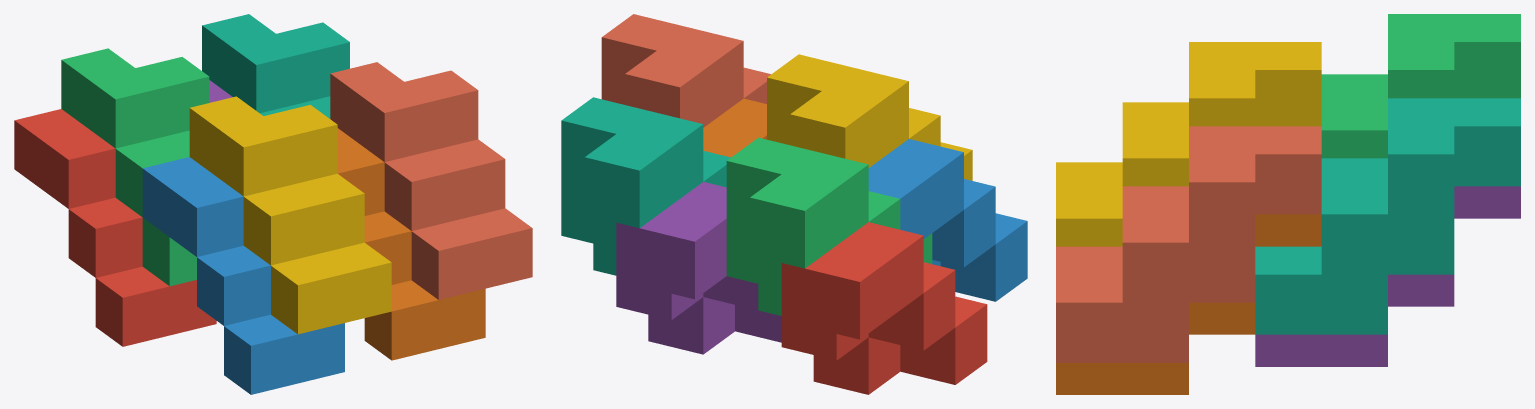
The model's file is tiling.obj.
3 views of the same model, side by side, from view 1: azimuth 30°, elevation 25°; view 2: azimuth 150°, elevation 25°; view 3: azimuth 270°, elevation 25° (orthographic). The views are drawn at different scales.
Parts seen in each view (by area): view 1: copy_1_domain_8, copy_1_domain_4, copy_1_domain_2, copy_1_domain_1, copy_1_domain_3, copy_1_domain_6, copy_1_domain_7; view 2: copy_1_domain_1, copy_1_domain_3, copy_1_domain_7, copy_1_domain_5, copy_1_domain_2, copy_1_domain_4, copy_1_domain_8, copy_1_domain_6; view 3: copy_1_domain_8, copy_1_domain_7, copy_1_domain_4, copy_1_domain_3, copy_1_domain_5, copy_1_domain_6.
Boxes of the visible parts, x1,y1,x2,y2 form: copy_1_domain_8: [330, 62, 532, 299]; copy_1_domain_4: [189, 96, 391, 334]; copy_1_domain_2: [142, 157, 344, 394]; copy_1_domain_1: [14, 109, 216, 346]; copy_1_domain_3: [61, 48, 209, 286]; copy_1_domain_6: [337, 128, 485, 360]; copy_1_domain_7: [202, 14, 349, 118]; copy_1_domain_1: [781, 222, 987, 394]; copy_1_domain_3: [726, 137, 932, 315]; copy_1_domain_7: [561, 97, 730, 275]; copy_1_domain_5: [616, 182, 781, 354]; copy_1_domain_2: [868, 139, 1027, 301]; copy_1_domain_4: [767, 54, 972, 180]; copy_1_domain_8: [601, 14, 770, 127]; copy_1_domain_6: [703, 98, 766, 157]; copy_1_domain_8: [1056, 126, 1321, 362]; copy_1_domain_7: [1255, 98, 1520, 334]; copy_1_domain_4: [1056, 42, 1321, 246]; copy_1_domain_3: [1321, 14, 1520, 158]; copy_1_domain_5: [1255, 186, 1520, 366]; copy_1_domain_6: [1056, 214, 1321, 394].
Size of the model in its own units: 7 by 4 by 7.
